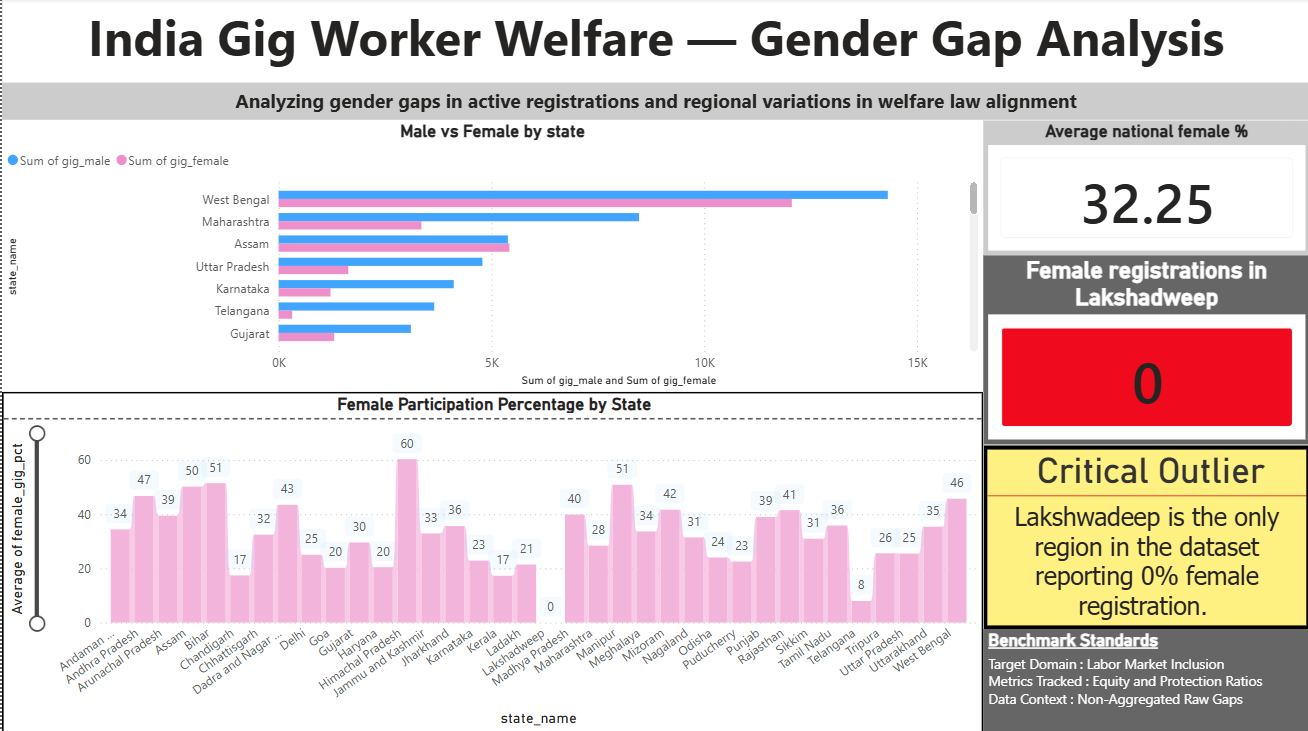

This screenshot's page, from the dashboard's own definition file:
{"tool":"powerbi","page":{"name":"Gender Gap Analysis","canvas":[1280,720],"ordinal":2},"visuals":[{"type":"textbox","box":[0,0,1280,83.8],"z":0},{"type":"textbox","box":[0,83.8,1280,36.2],"z":1000},{"type":"clusteredBarChart","title":"Male vs Female by state","fields":{"Y":["Sum(master_analytics_table.gig_male)","Sum(master_analytics_table.gig_female)"],"Category":["master_analytics_table.state_name"]},"box":[0,120,960,265],"z":2000},{"type":"cardVisual","title":"Average national female %","fields":{"Data":["Avg(master_analytics_table.female_gig_pct)"]},"box":[960,120,320,132.5],"z":3000},{"type":"cardVisual","title":"Female registrations in Lakshadweep","fields":{"Data":["Sum(master_analytics_table.gig_female)"]},"box":[960,252.5,320,185],"z":4000},{"type":"textbox","title":"Critical Outlier","box":[960,437.5,320,180],"z":5000},{"type":"columnChart","title":"Female Participation Percentage by State","fields":{"Category":["master_analytics_table.state_name","master_analytics_table.has_law_binary"],"Y":["Avg(master_analytics_table.female_gig_pct)"]},"box":[0,385,960,335],"z":6000},{"type":"textbox","title":"Benchmark Standards","box":[960,617.1,320,102.9],"z":7000}]}

Visuals, with their boxes in screenshot pixels (x1, y1, x2, y2), scaled from the page's 1280x720 canvas onto the 1308x731 screenshot:
textbox: BBox(0, 0, 1307, 85)
textbox: BBox(0, 85, 1307, 122)
"Male vs Female by state" clusteredBarChart: BBox(0, 122, 981, 391)
"Average national female %" cardVisual: BBox(981, 122, 1307, 256)
"Female registrations in Lakshadweep" cardVisual: BBox(981, 256, 1307, 444)
"Critical Outlier" textbox: BBox(981, 444, 1307, 627)
"Female Participation Percentage by State" columnChart: BBox(0, 391, 981, 730)
"Benchmark Standards" textbox: BBox(981, 627, 1307, 730)
